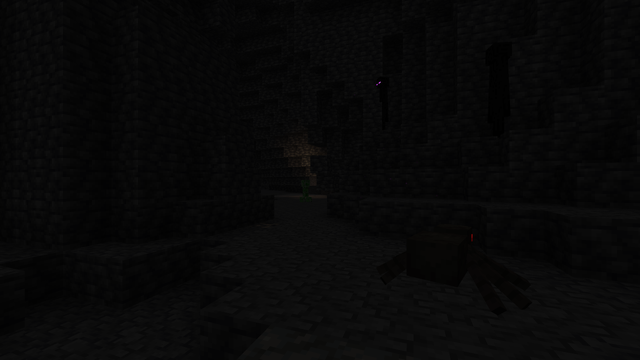araignees: (398, 217, 516, 311)
creepers: (300, 178, 310, 201)
endermens: (484, 36, 512, 136), (375, 74, 388, 134)
